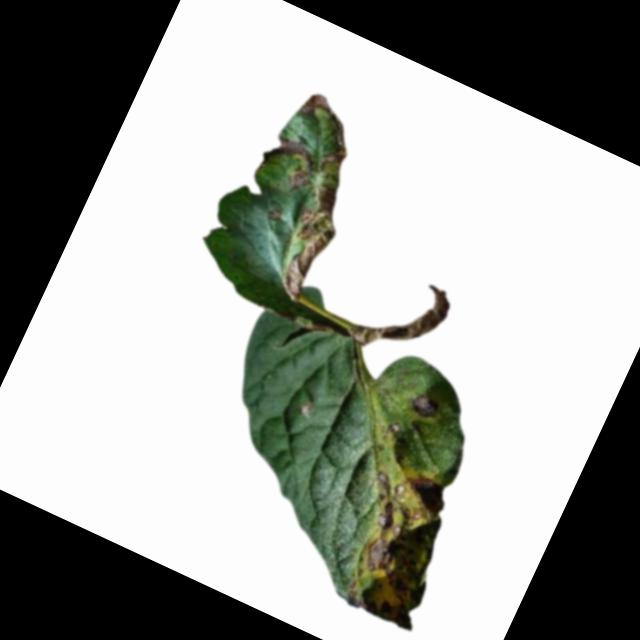Early_blight: (319, 456, 472, 634), (262, 139, 372, 305), (343, 260, 470, 379), (259, 133, 323, 194), (296, 88, 339, 129), (407, 391, 441, 423), (268, 207, 285, 224)
